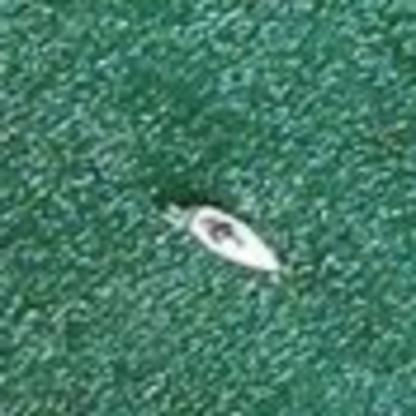ship: (154, 191, 288, 279)
